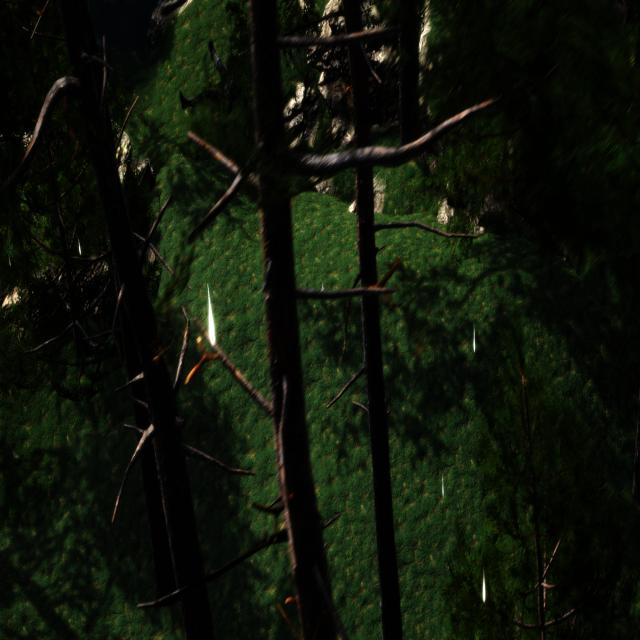Human: (176, 36, 244, 112)
